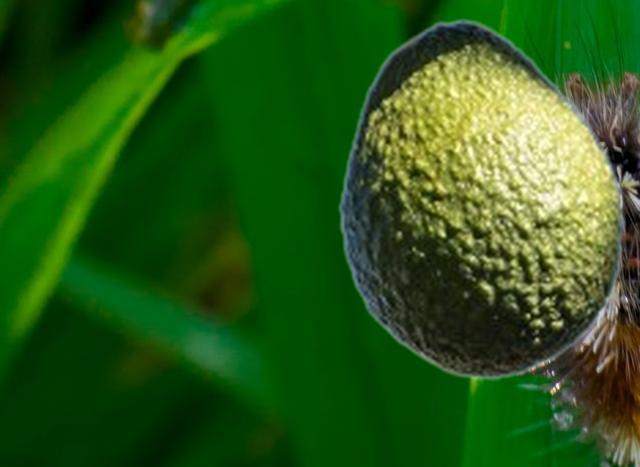avocado: (336, 18, 624, 380)
